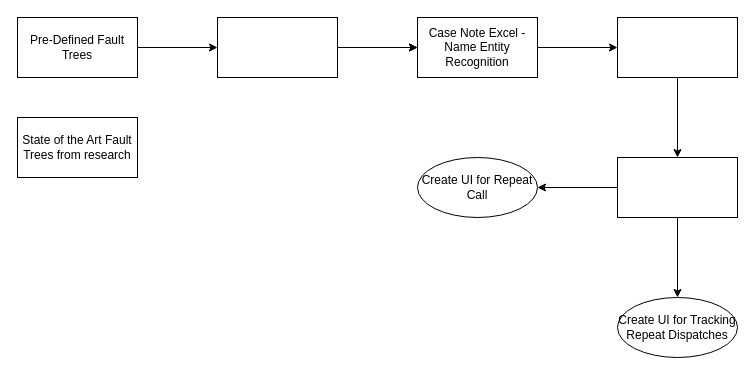
Some shapes in this 755 by 375 pixel diagram are drawn without their labels. Each missing label, with the box of its shape:
Construct our own Fault Trees( Original FT + New FT from NLP-NER): (616, 16, 738, 78)
Enter Fault Tree into GraphDB: (616, 156, 738, 218)
Parse Case Note Excel using NLP: (216, 16, 338, 78)
